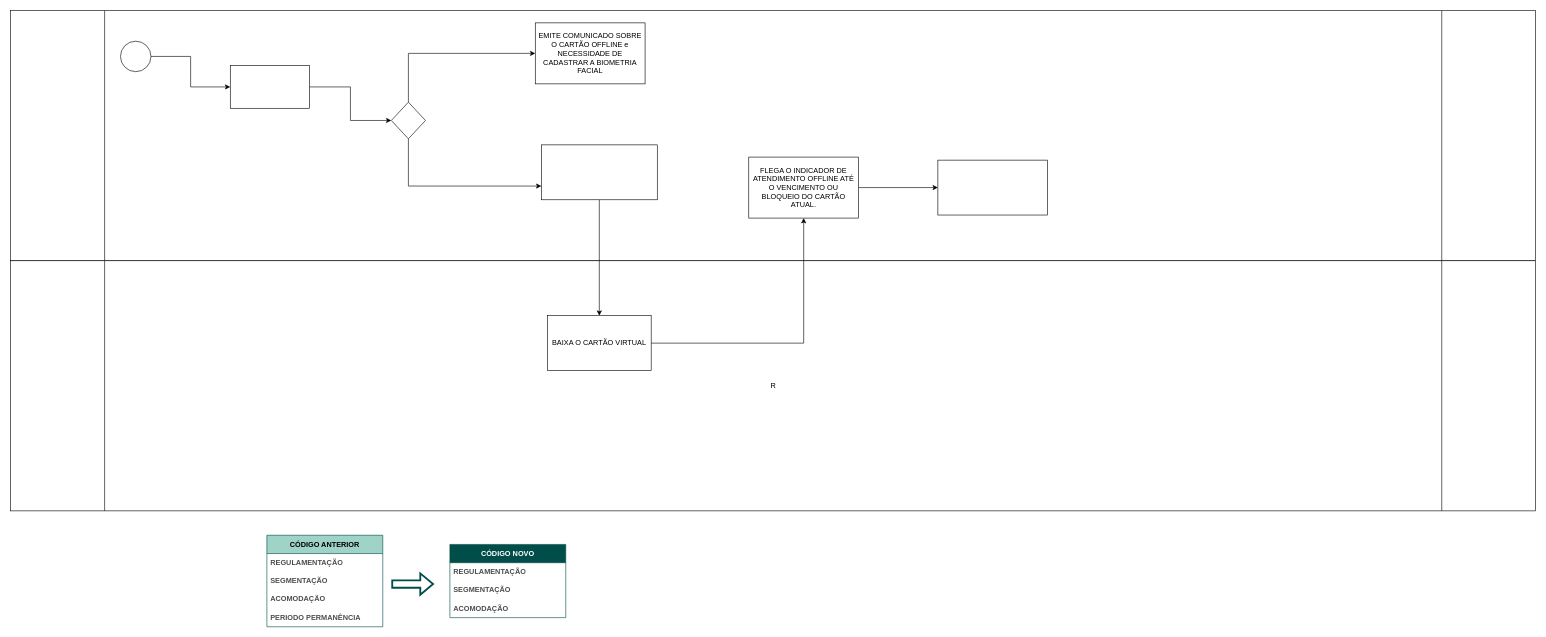
Image size: 1546x637. Some labels were removed from this diagram. The centre of each missing label's shape, as x and y in pixels:
DISPONIBILIZA UMA COPIA DO CARTAO PDF / JPEG. PARA DONWLOAD: [599,172]
PASSA A LIBERAR O ATENDIMENTO MEDIANTE A BIOMETRIA FACIAL: [992,187]
POSSUI BIOMETRIA FACIAL CADASTRADA?: [270,86]
